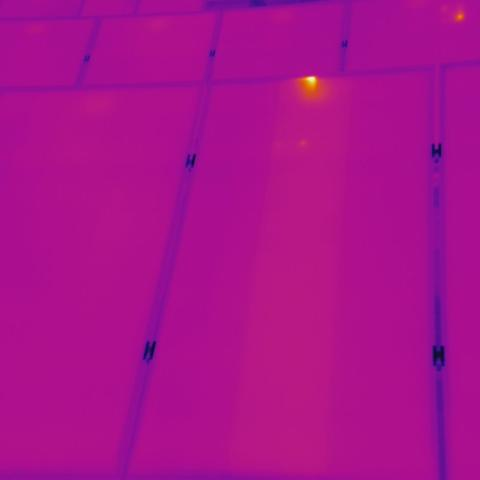fault: (300, 72, 326, 95)
